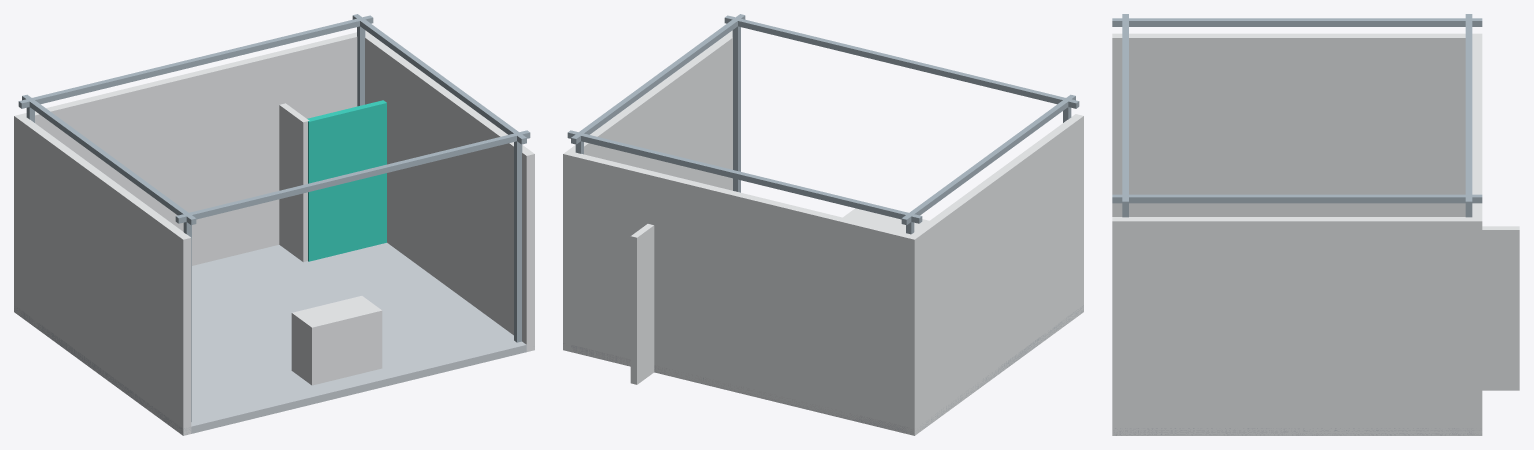
3 renders of one model, left to right at view 1: azimuth 30°, elevation 25°; view 2: azimuth 150°, elevation 25°; view 3: azimuth 270°, elevation 25°, orthographic. The views are drawn at different scales.
Parts seen in each view (by area): view 1: Exhibition Booth Concept; view 2: Exhibition Booth Concept; view 3: Exhibition Booth Concept.
Part boxes in pixels (box(x1,y1,x2,y2)): Exhibition Booth Concept: box(14, 14, 534, 435); Exhibition Booth Concept: box(563, 14, 1083, 435); Exhibition Booth Concept: box(1112, 14, 1519, 435).
Size of the model in its own units: 6 by 3.49 by 5.51.
